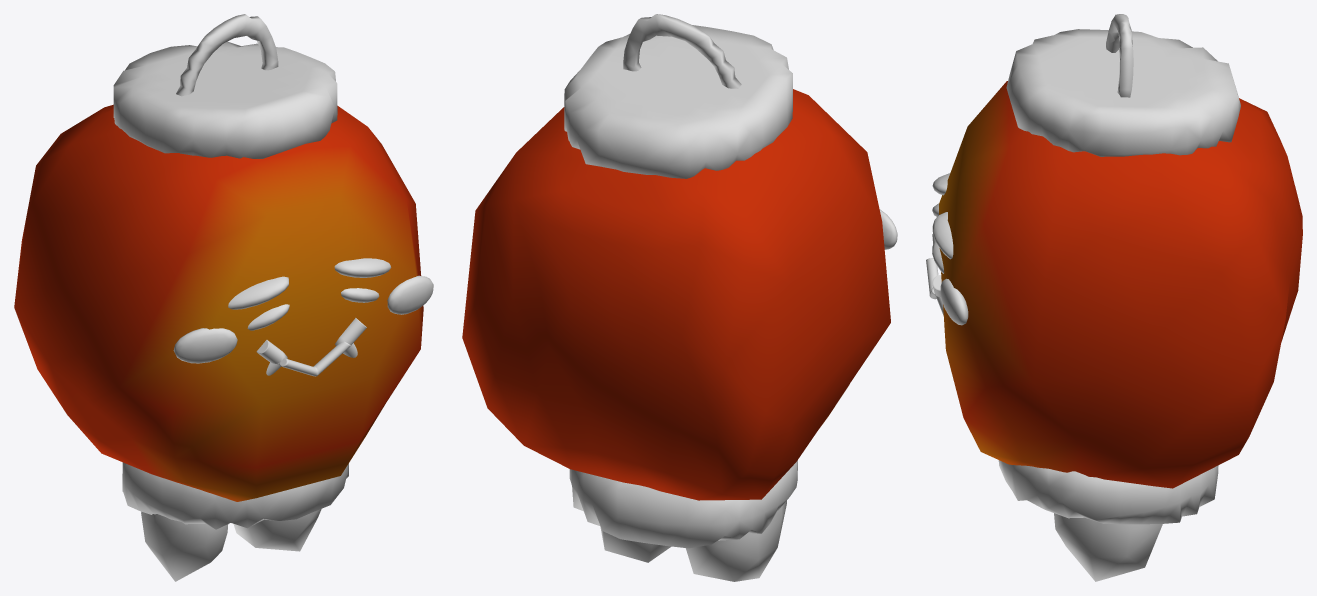
File: chochinbuku.fbx
3 renders of one model, left to right at view 1: azimuth 30°, elevation 25°; view 2: azimuth 150°, elevation 25°; view 3: azimuth 270°, elevation 25°, orthographic. The views are drawn at different scales.
Parts seen in each view (by area): view 1: UV球 (×2), 円柱, 円柱 1, クアッドスフィア 1, UV球 2, トーラス, チューブ 4, UV球 1, チューブ; view 2: UV球, 円柱, 円柱 1, クアッドスフィア 1, トーラス; view 3: UV球 (×2), 円柱, 円柱 1, クアッドスフィア 1, トーラス, UV球 2.
Boxes of the visible parts, x1=… form: UV球 (×2): x1=14, y1=104, x2=423, y2=501; 円柱: x1=113, y1=41, x2=337, y2=158; 円柱 1: x1=122, y1=462, x2=348, y2=529; クアッドスフィア 1: x1=141, y1=509, x2=321, y2=581; UV球 2: x1=173, y1=275, x2=433, y2=363; トーラス: x1=176, y1=14, x2=278, y2=96; チューブ 4: x1=256, y1=318, x2=366, y2=375; UV球 1: x1=247, y1=288, x2=379, y2=330; チューブ: x1=279, y1=341, x2=350, y2=376; UV球: x1=462, y1=89, x2=890, y2=500; 円柱: x1=564, y1=25, x2=792, y2=178; 円柱 1: x1=569, y1=460, x2=797, y2=548; クアッドスフィア 1: x1=600, y1=501, x2=786, y2=581; トーラス: x1=623, y1=14, x2=741, y2=88; UV球 (×2): x1=932, y1=81, x2=1302, y2=488; 円柱: x1=1006, y1=29, x2=1240, y2=156; 円柱 1: x1=998, y1=460, x2=1218, y2=524; クアッドスフィア 1: x1=1054, y1=513, x2=1162, y2=581; トーラス: x1=1106, y1=14, x2=1133, y2=97; UV球 2: x1=940, y1=278, x2=968, y2=325.
Bounding box in the file's own units: 1.05 × 1.63 × 1.04.
